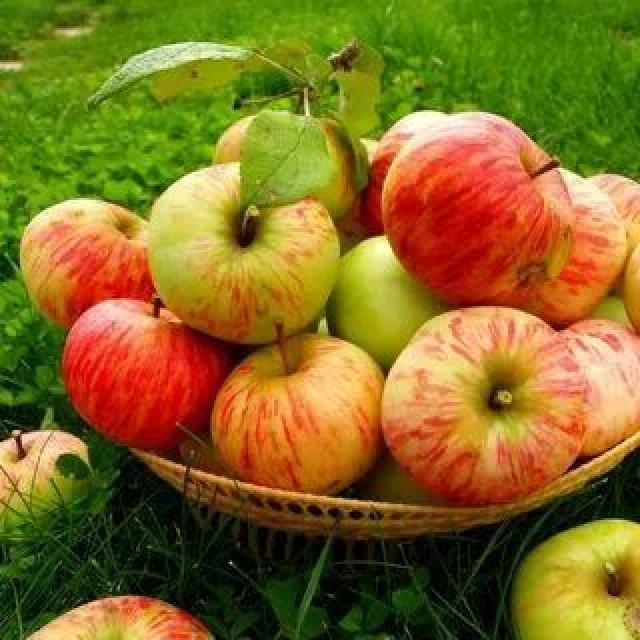Fresh Apple: (378, 123, 592, 310), (382, 314, 588, 494), (143, 170, 335, 343), (214, 333, 384, 497), (62, 305, 228, 455)
